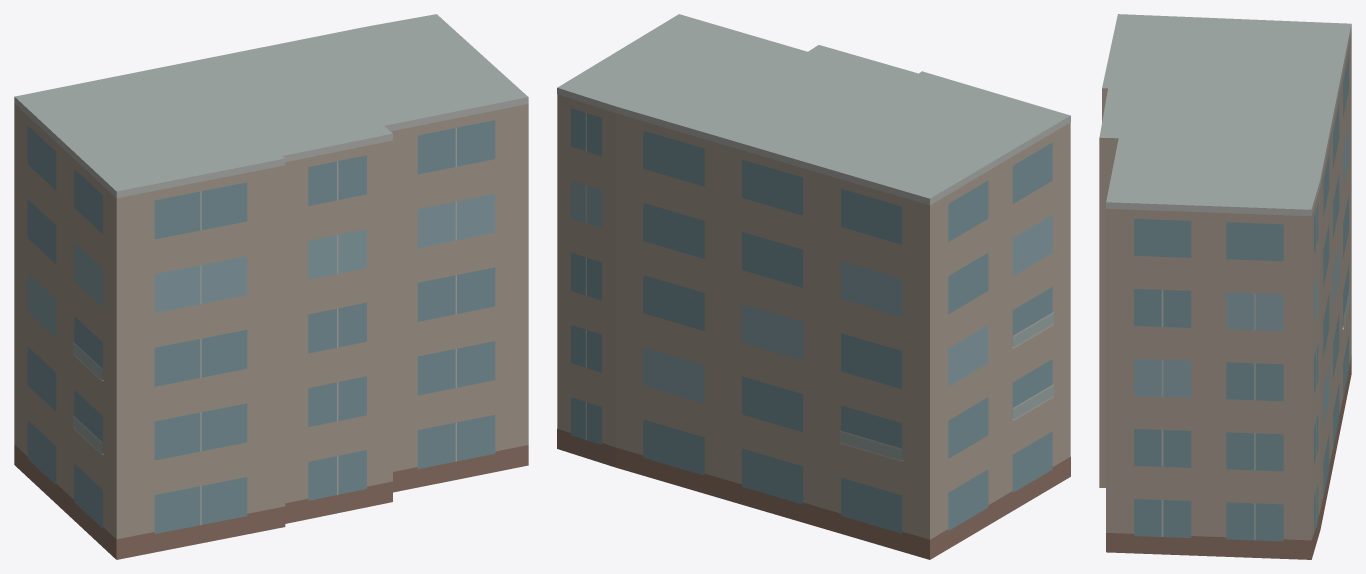
The model's file is survey-upis-32688914.glb.
3 renders of one model, left to right at view 1: azimuth 30°, elevation 25°; view 2: azimuth 150°, elevation 25°; view 3: azimuth 270°, elevation 25°, orthographic. The views are drawn at different scales.
Parts seen in each view (by area): view 1: survey-upis-32688914.tmp; view 2: survey-upis-32688914.tmp; view 3: survey-upis-32688914.tmp.
Boxes of the visible parts, box(x1,y1,x2,y2) form: survey-upis-32688914.tmp: box(14, 14, 528, 559); survey-upis-32688914.tmp: box(557, 14, 1070, 559); survey-upis-32688914.tmp: box(1099, 14, 1351, 559).
Bounding box in the file's own units: 15.96 × 13.3 × 8.69.
